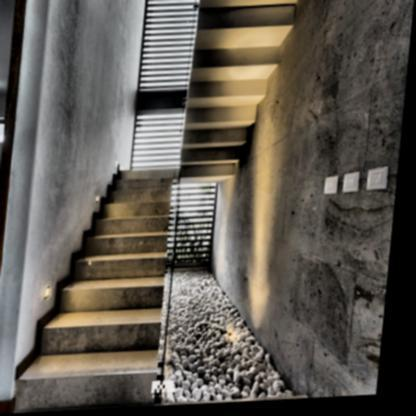stair: (29, 166, 179, 407)
